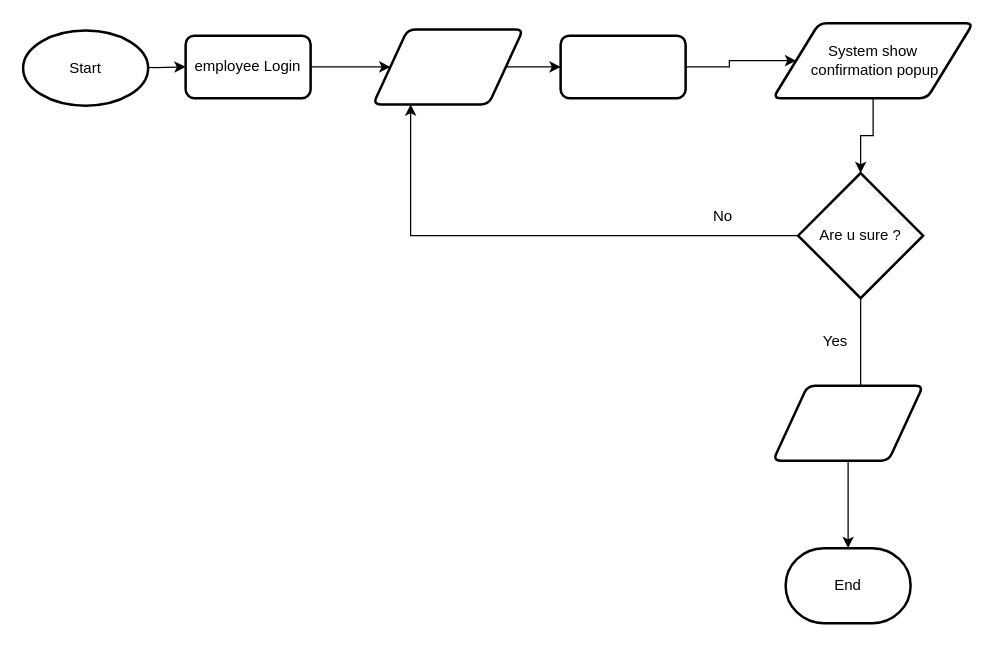
Image size: 995x645. Some labels were removed from this diagram. The centre of each missing label's shape, as x and y in pixels:
"choose request then withdraw" belongs at [622,66].
"system show list of requstes" belongs at [447,66].
"system show updated list of requstes" belongs at [847,422].
